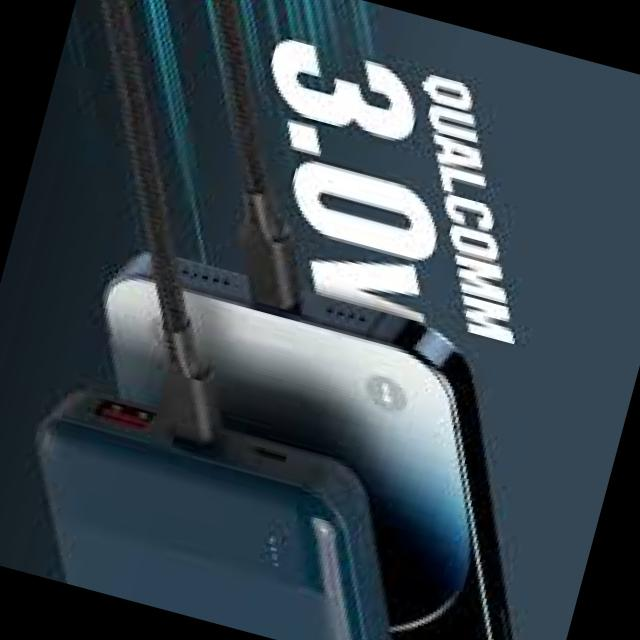power_bank: (0, 378, 445, 640)
